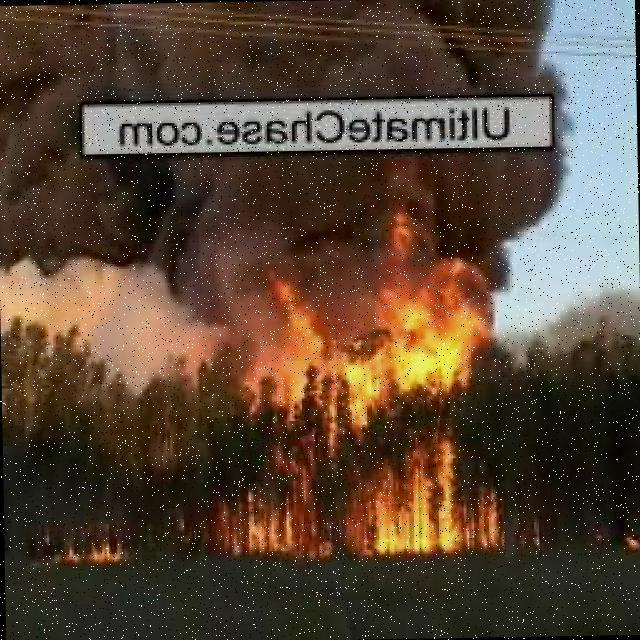Fire: (207, 208, 493, 558), (45, 522, 128, 567)
